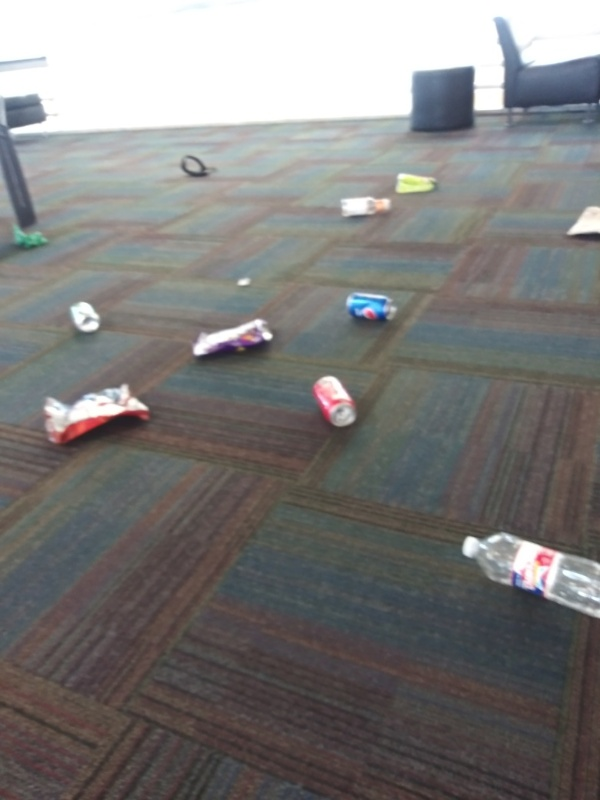bag: (39, 381, 157, 454), (186, 313, 281, 364), (559, 199, 600, 243), (391, 170, 439, 199)
bottle: (453, 527, 600, 627), (338, 192, 400, 224)
can: (305, 372, 364, 432), (342, 289, 400, 328), (65, 296, 101, 335)
